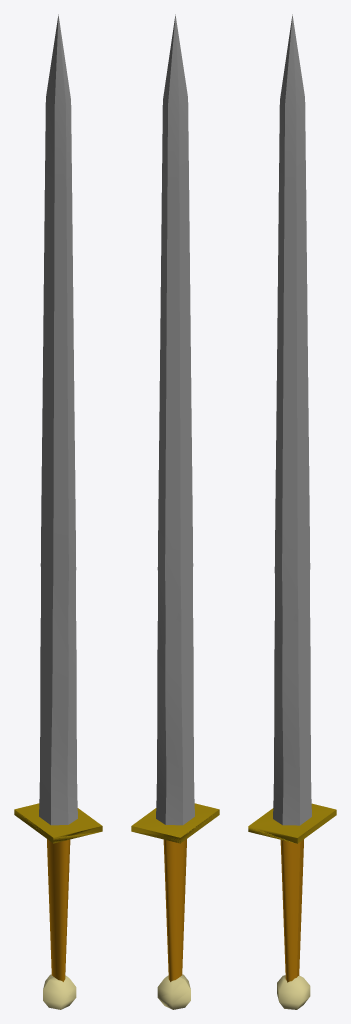
The model's file is sword1.gltf.
The picture shows the model from 3 angles, left to right: view 1: azimuth 30°, elevation 25°; view 2: azimuth 150°, elevation 25°; view 3: azimuth 330°, elevation 25°; orthographic projection.
Bounding box in the file's own units: 0.09 × 1.74 × 0.124.
